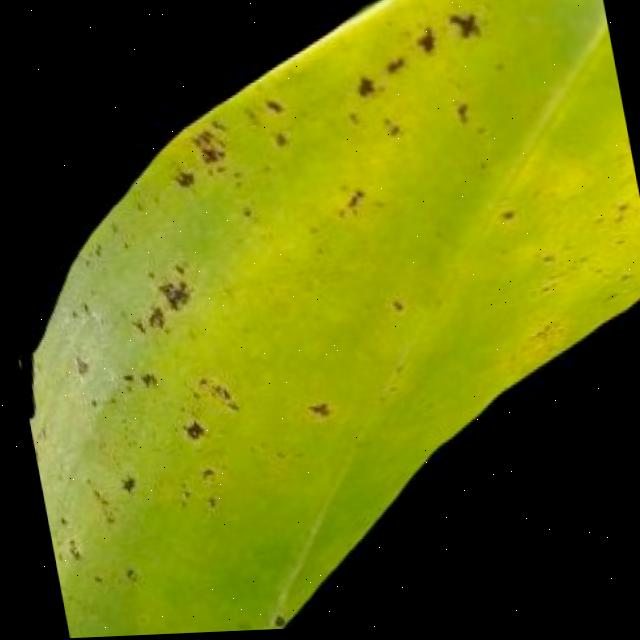spots: (1, 0, 640, 639)
